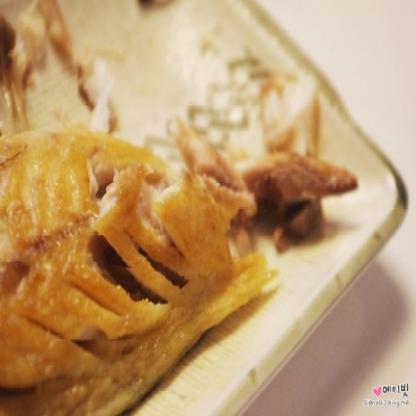Peixe: (0, 65, 341, 416)
